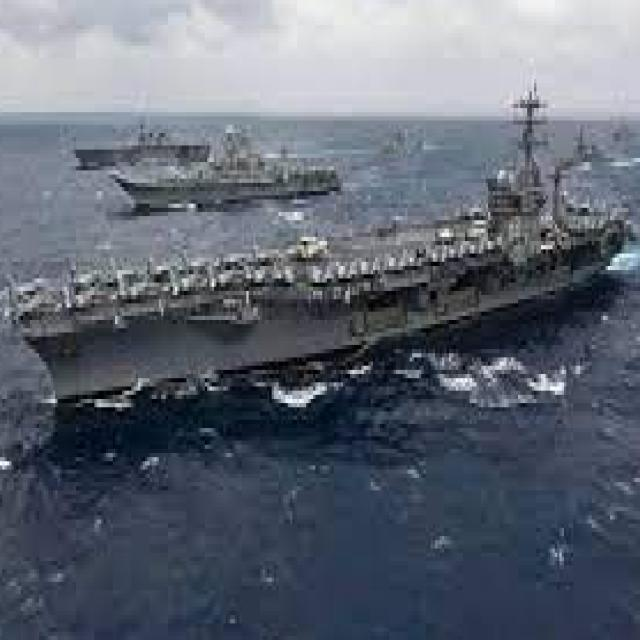navalvessels: (18, 104, 636, 413), (126, 146, 350, 241), (84, 101, 221, 171)
